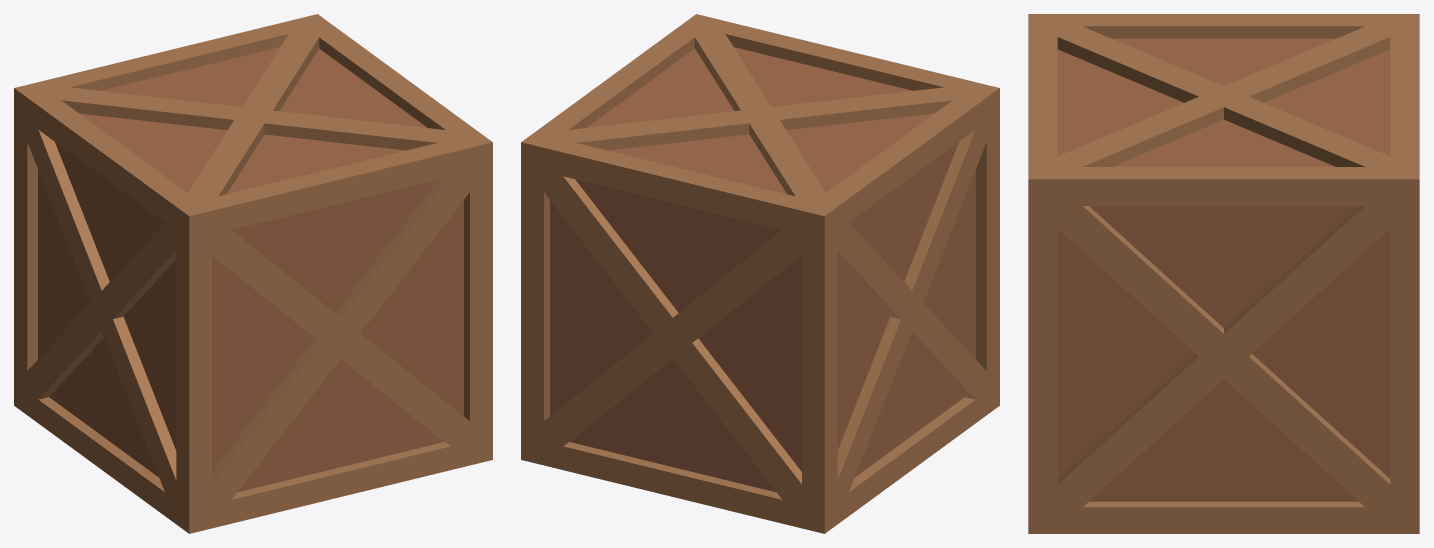
Rendered from Warehouse Crate.fbx.
The picture shows the model from 3 angles, left to right: view 1: azimuth 30°, elevation 25°; view 2: azimuth 150°, elevation 25°; view 3: azimuth 270°, elevation 25°; orthographic projection. The views are drawn at different scales.
Parts seen in each view (by area): view 1: Crate; view 2: Crate; view 3: Crate.
Boxes of the visible parts, left/top/right/bottom form: Crate: left=14, top=14, right=492, bottom=533; Crate: left=521, top=14, right=999, bottom=533; Crate: left=1028, top=14, right=1419, bottom=533.
Size of the model in its own units: 300 by 300 by 300.
